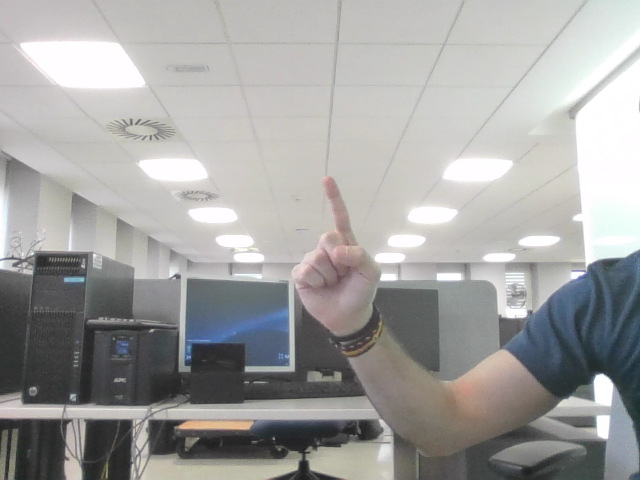1Dedo: (305, 187, 368, 293)
